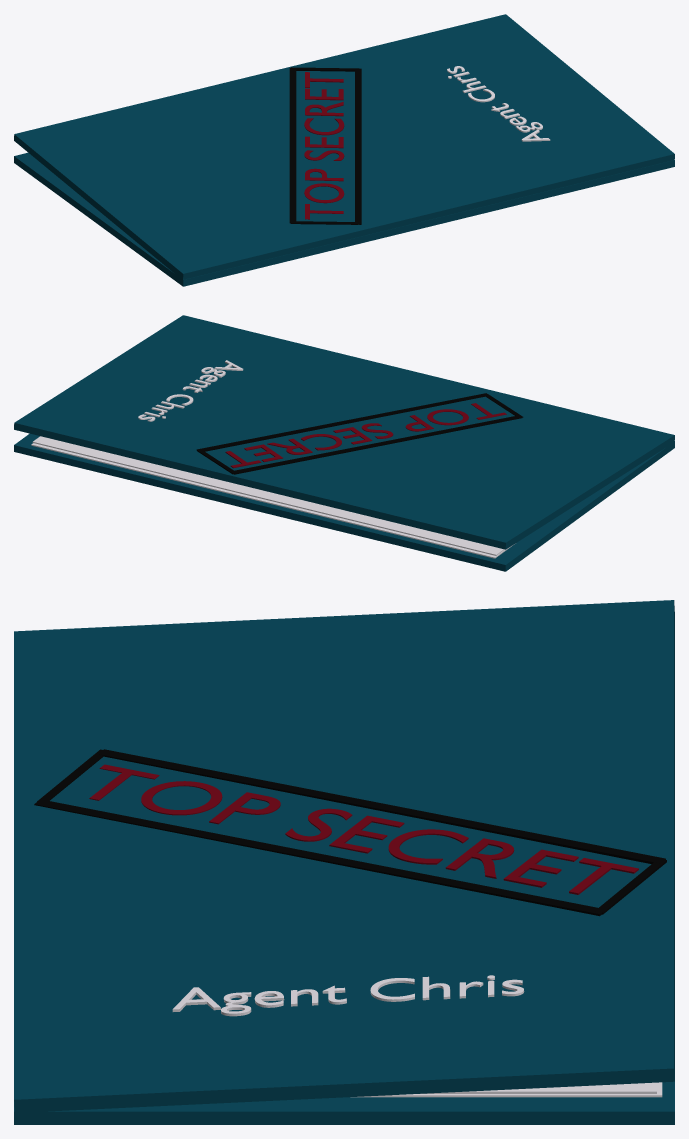
Rendered from secret-file.fbx.
3 views of the same model, one above another, from view 1: azimuth 30°, elevation 25°; view 2: azimuth 150°, elevation 25°; view 3: azimuth 270°, elevation 25° (orthographic). The views are drawn at different scales.
Parts seen in each view (by area): view 1: Cube, Text.001, Plane, Text, Plane.001; view 2: Cube, Cube.003, Text.001, Cube.002, Plane, Plane.001, Text; view 3: Cube, Text.001, Plane, Plane.001, Text, Cube.003, Cube.002.
Boxes of the visible parts, bbox=[...] form: Cube: bbox=[14, 14, 674, 286]; Text.001: bbox=[304, 72, 344, 219]; Plane: bbox=[289, 68, 296, 223]; Text: bbox=[447, 66, 550, 141]; Plane.001: bbox=[355, 68, 361, 224]; Cube: bbox=[14, 315, 674, 571]; Cube.003: bbox=[32, 436, 504, 555]; Text.001: bbox=[225, 403, 506, 468]; Cube.002: bbox=[31, 443, 515, 558]; Plane: bbox=[231, 415, 522, 474]; Plane.001: bbox=[196, 393, 487, 451]; Text: bbox=[138, 360, 243, 421]; Cube: bbox=[14, 600, 674, 1124]; Text.001: bbox=[89, 764, 638, 894]; Plane: bbox=[98, 749, 665, 863]; Plane.001: bbox=[34, 800, 601, 916]; Text: bbox=[172, 975, 524, 1016]; Cube.003: bbox=[420, 1082, 656, 1093]; Cube.002: bbox=[350, 1082, 662, 1097].
Size of the model in its own units: 43.71 by 2.54 by 26.06.
